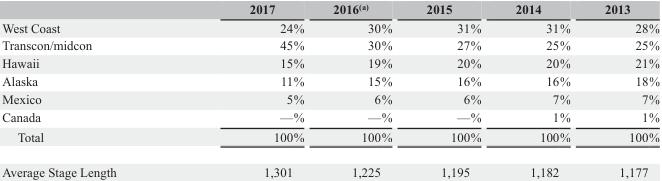table: (1, 1, 658, 178)
table column: (1, 1, 182, 178), (182, 1, 317, 178), (317, 1, 408, 178), (408, 1, 497, 178), (497, 1, 586, 178), (586, 1, 658, 178)
table column header: (1, 1, 658, 18)
table row: (1, 126, 658, 153), (1, 153, 658, 178), (1, 107, 658, 126), (1, 18, 658, 36), (1, 53, 658, 71), (1, 71, 658, 89), (1, 89, 658, 107), (1, 1, 658, 18), (1, 36, 658, 53)
